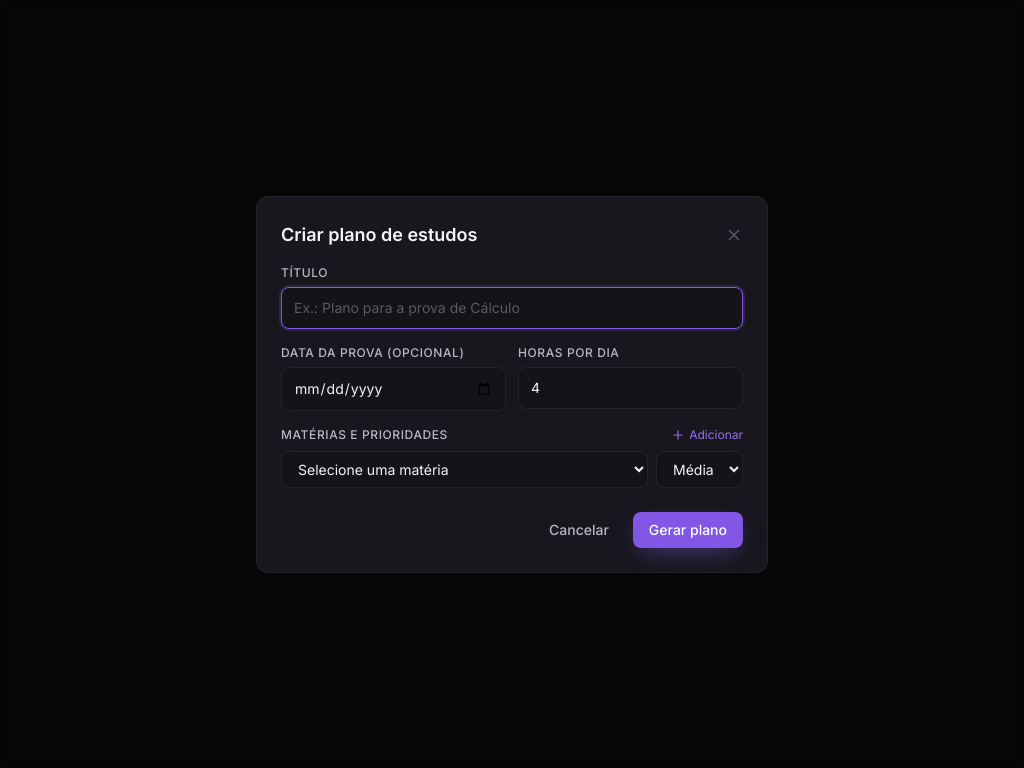
Test: GenerateStudyPlanModal › rejeita matéria duplicada
In the field labelled "Título": (512, 308) [281, 286, 743, 328], type "Plano X"
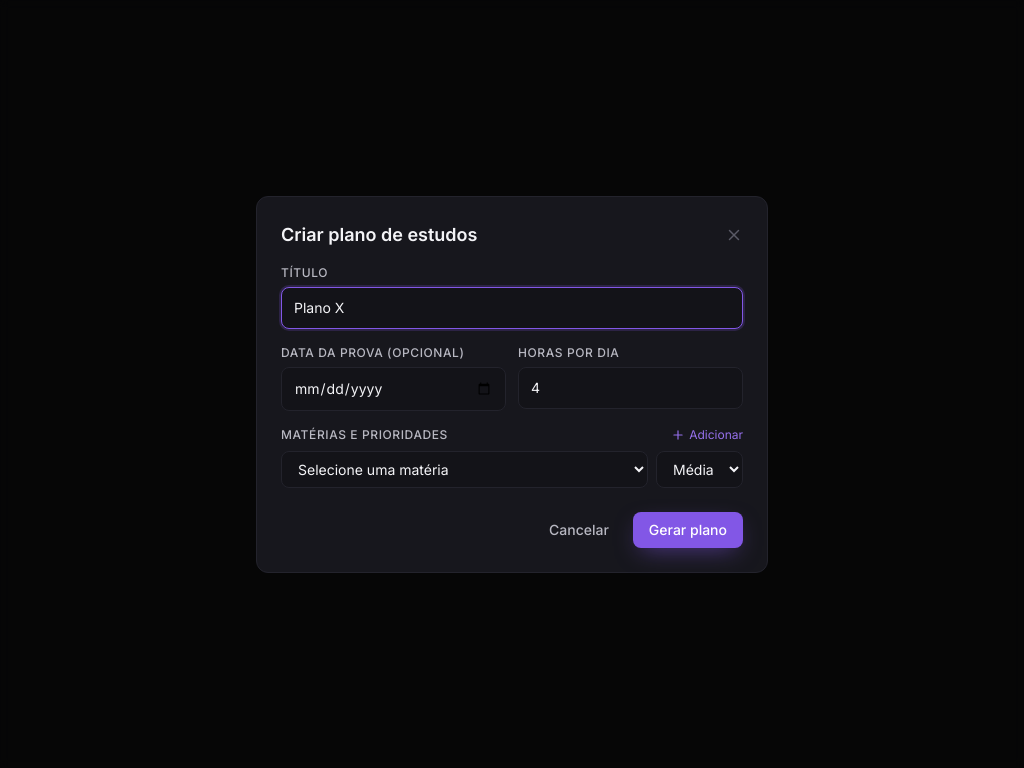
Select "Cálculo I" in the dropdown named "Matéria 1": (464, 469) [281, 450, 648, 488]
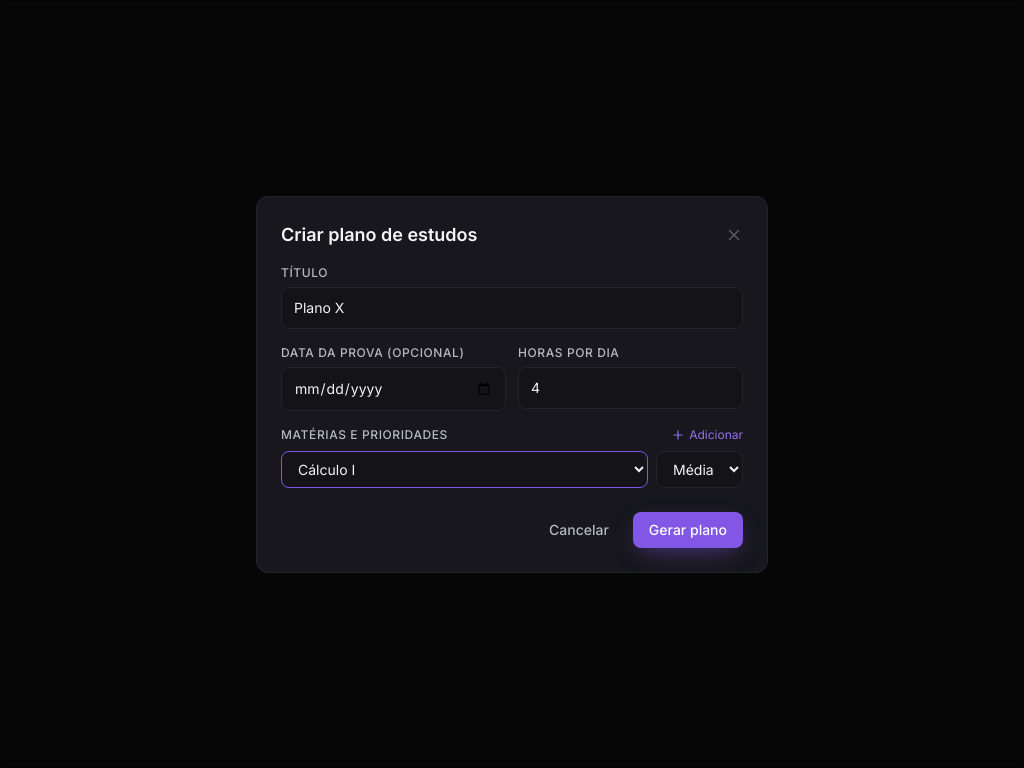
Click the button "Adicionar": click(707, 434) [671, 426, 743, 442]
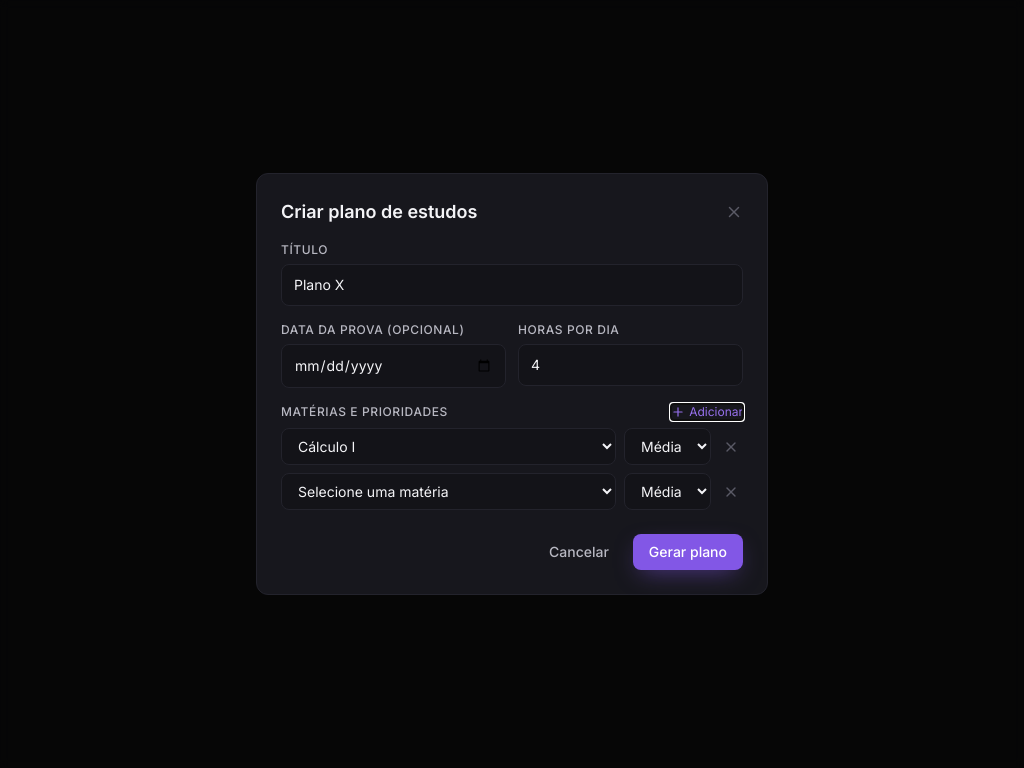
Select "Cálculo I" in the dropdown named "Matéria 2": (448, 492) [281, 473, 616, 510]
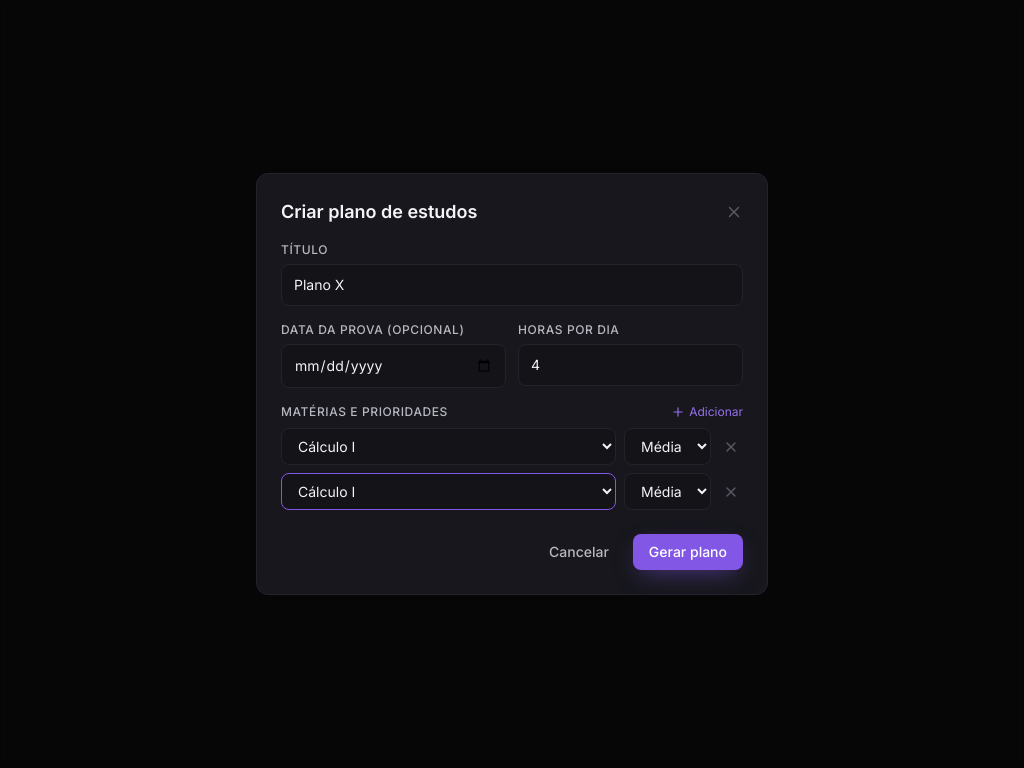
Click the button "Gerar plano": click(688, 552) [633, 534, 743, 570]
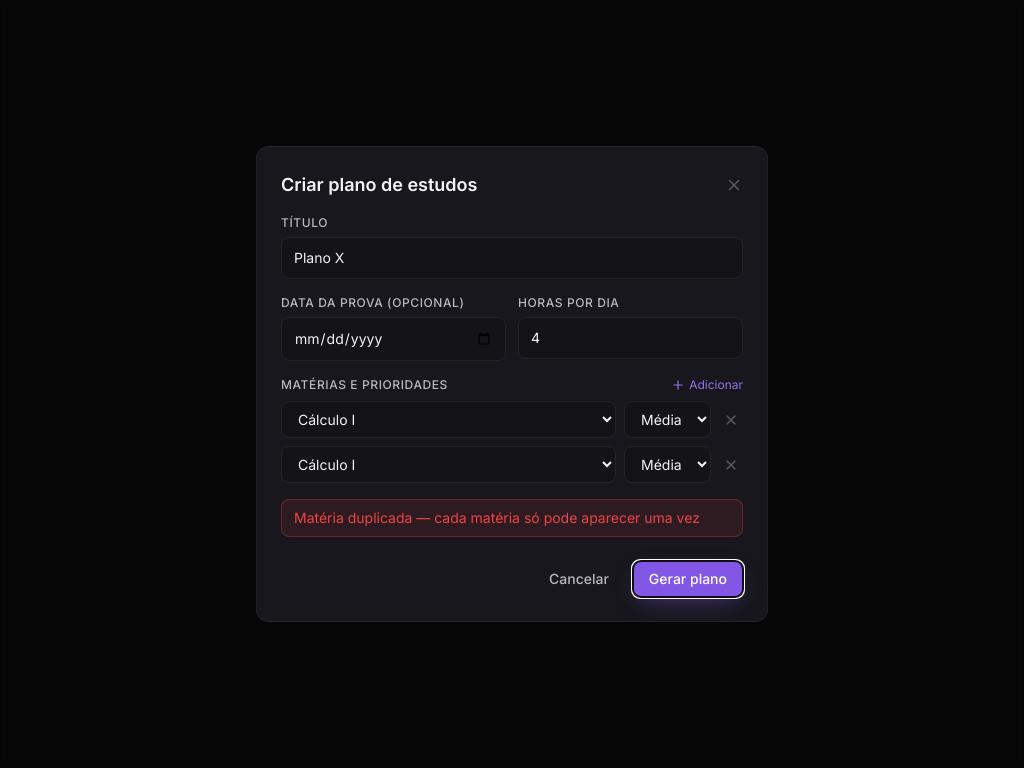
Check: the text "Matéria duplicada — cada matéria só pode aparecer uma vez" is shown, box [281, 499, 743, 537]
